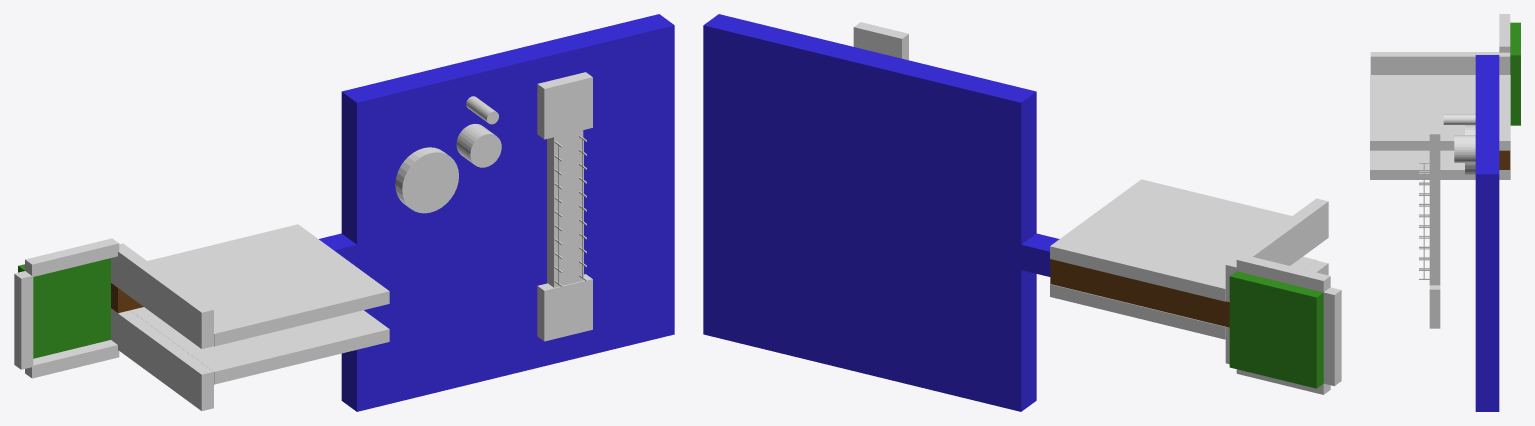
The picture shows the model from 3 angles, left to right: view 1: azimuth 30°, elevation 25°; view 2: azimuth 150°, elevation 25°; view 3: azimuth 270°, elevation 25°; orthographic projection. The views are drawn at different scales.
Visible parts, largest first — view 1: Cube.010, Cube.011, Cube.009, Cube.002, Cube.014, Cube.007, Cube.006, Cylinder, Cube.013, Cube.015, Cube.003, Cube.004 (+3 smaller); view 2: Cube.010, Cube.011, Cube.002, Cube, Cube.007, Cube.009, Cube.003, Cube.004, Cube.013, Cube.012; view 3: Cube.010, Cube.011, Cube.007, Cube.009, Cube.014, Cube.002, Cube.013, Cylinder.001, Cube.015, Cube.004, Cylinder.002, Cylinder (+1 smaller).
Part boxes in pixels (x1,y1,x2,y2): Cube.010: (341,14,674,411); Cube.011: (147,224,389,346); Cube.009: (130,307,389,384); Cube.002: (18,258,110,358); Cube.014: (547,130,583,287); Cube.007: (111,243,213,348); Cube.006: (111,308,213,410); Cylinder: (395,147,458,213); Cube.013: (537,72,592,139); Cube.015: (537,274,592,341); Cube.003: (14,271,33,369); Cube.004: (25,238,119,276); Cube.010: (703,14,1036,411); Cube.011: (1050,179,1291,301); Cube.002: (1229,271,1323,388); Cube: (1050,259,1229,327); Cube.007: (1225,198,1328,302); Cube.009: (1050,256,1316,339); Cube.003: (1323,287,1341,386); Cube.004: (1236,254,1330,292); Cube.013: (853,22,908,60); Cube.012: (1021,233,1059,276); Cube.010: (1475,55,1499,411); Cube.011: (1370,75,1510,150); Cube.007: (1370,52,1510,74); Cube.009: (1370,150,1510,179); Cube.014: (1429,173,1440,285); Cube.002: (1510,22,1520,125); Cube.013: (1429,116,1440,173); Cylinder.001: (1454,135,1475,162); Cube.015: (1429,285,1440,328); Cube.004: (1499,14,1510,52); Cylinder.002: (1443,114,1475,124); Cylinder: (1465,125,1475,175).
Size of the model in its own units: 105 by 48.84 by 28.1.
